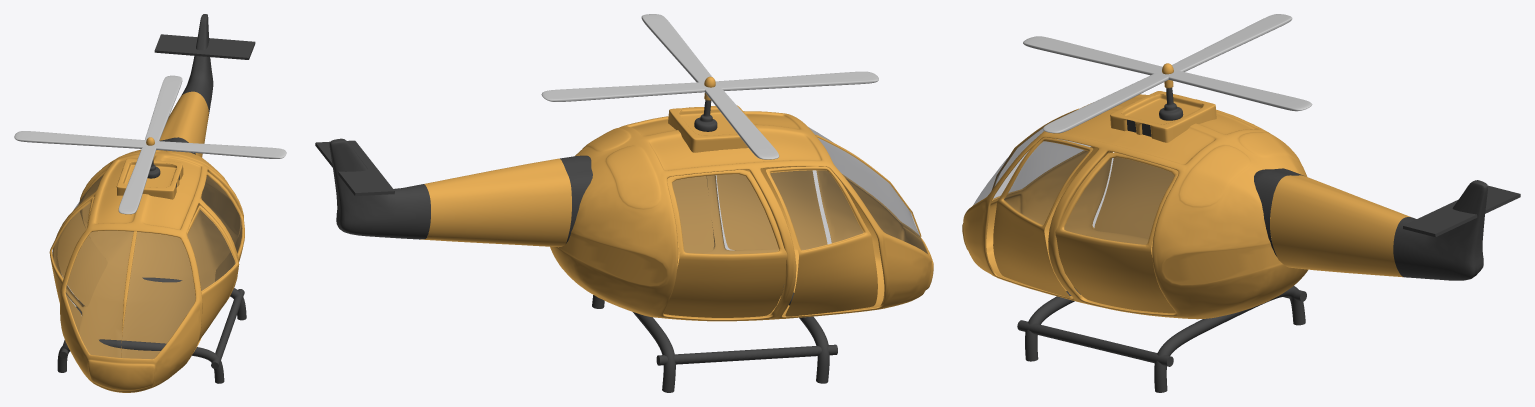
Rendered from helicopter-3d-animated-icon-1185721918220.glb.
3 views of the same model, side by side, from view 1: azimuth 30°, elevation 25°; view 2: azimuth 150°, elevation 25°; view 3: azimuth 270°, elevation 25° (orthographic). The views are drawn at different scales.
Parts seen in each view (by area): view 1: body, glass, door, prop, stand; view 2: body, door, prop, stand, glass; view 3: body, door, prop, stand, glass.
Boxes of the visible parts, bbox=[...] form: body: bbox=[52, 14, 255, 392]; glass: bbox=[66, 231, 195, 358]; door: bbox=[49, 169, 244, 341]; prop: bbox=[14, 75, 286, 214]; stand: bbox=[57, 277, 246, 383]; body: bbox=[315, 105, 933, 321]; door: bbox=[663, 166, 877, 317]; prop: bbox=[541, 14, 878, 159]; stand: bbox=[592, 284, 837, 392]; glass: bbox=[809, 127, 927, 253]; body: bbox=[962, 91, 1520, 319]; door: bbox=[993, 137, 1178, 313]; prop: bbox=[1023, 14, 1312, 133]; stand: bbox=[1017, 286, 1306, 392]; glass: bbox=[973, 108, 1092, 205].
Size of the model in its own units: 2.64 by 1.7 by 2.95.
